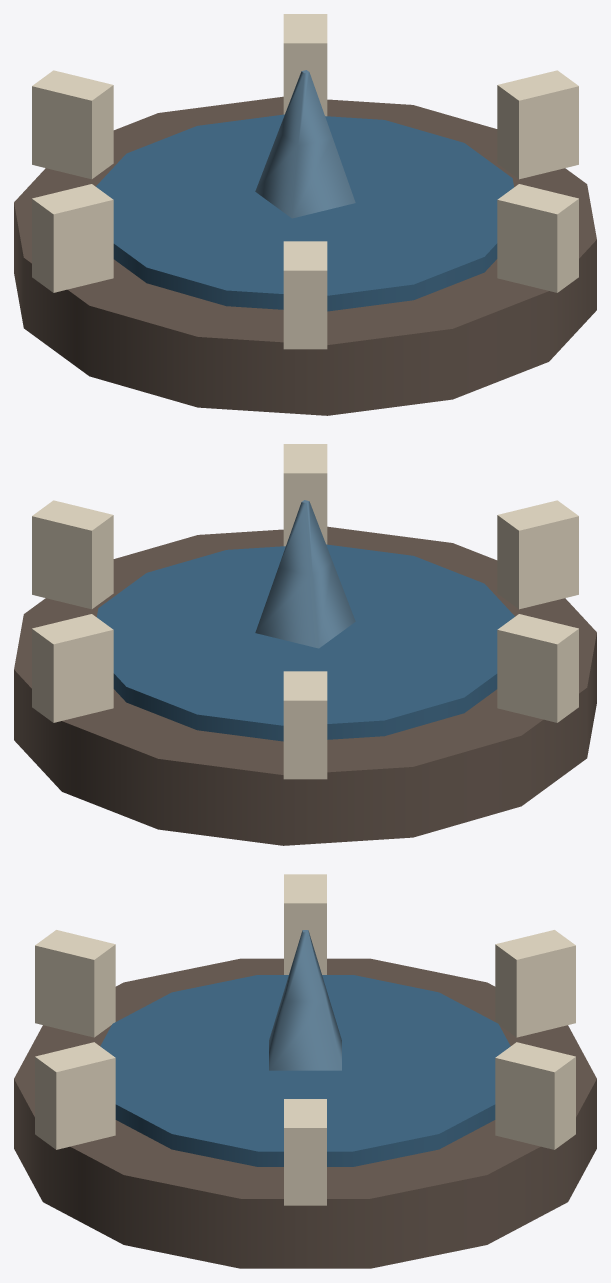
The model's file is node_ling_quan.glb.
3 renders of one model, top to bottom at view 1: azimuth 30°, elevation 25°; view 2: azimuth 150°, elevation 25°; view 3: azimuth 270°, elevation 25°, orthographic.
Visible parts, largest first — view 1: _MeshInstance3D_322, _MeshInstance3D_323, _MeshInstance3D_330, _MeshInstance3D_325, _MeshInstance3D_327, _MeshInstance3D_324, _MeshInstance3D_328, _MeshInstance3D_326, _MeshInstance3D_329; view 2: _MeshInstance3D_322, _MeshInstance3D_323, _MeshInstance3D_330, _MeshInstance3D_327, _MeshInstance3D_329, _MeshInstance3D_324, _MeshInstance3D_326, _MeshInstance3D_328, _MeshInstance3D_325; view 3: _MeshInstance3D_322, _MeshInstance3D_323, _MeshInstance3D_325, _MeshInstance3D_329, _MeshInstance3D_326, _MeshInstance3D_328, _MeshInstance3D_330, _MeshInstance3D_324, _MeshInstance3D_327.
Part boxes in pixels (left/top/right/bottom): _MeshInstance3D_322: left=14, top=96, right=596, bottom=415; _MeshInstance3D_323: left=96, top=114, right=513, bottom=311; _MeshInstance3D_330: left=255, top=70, right=355, bottom=218; _MeshInstance3D_325: left=497, top=184, right=578, bottom=292; _MeshInstance3D_327: left=32, top=184, right=113, bottom=292; _MeshInstance3D_324: left=497, top=70, right=578, bottom=179; _MeshInstance3D_328: left=32, top=70, right=113, bottom=179; _MeshInstance3D_326: left=283, top=241, right=327, bottom=349; _MeshInstance3D_329: left=283, top=14, right=327, bottom=116; _MeshInstance3D_322: left=14, top=526, right=596, bottom=845; _MeshInstance3D_323: left=97, top=544, right=514, bottom=741; _MeshInstance3D_330: left=255, top=500, right=355, bottom=648; _MeshInstance3D_327: left=497, top=614, right=578, bottom=722; _MeshInstance3D_329: left=32, top=614, right=113, bottom=722; _MeshInstance3D_324: left=32, top=500, right=113, bottom=609; _MeshInstance3D_326: left=497, top=500, right=578, bottom=609; _MeshInstance3D_328: left=283, top=671, right=327, bottom=779; _MeshInstance3D_325: left=283, top=444, right=327, bottom=546; _MeshInstance3D_322: left=14, top=958, right=596, bottom=1268; _MeshInstance3D_323: left=100, top=975, right=510, bottom=1166; _MeshInstance3D_325: left=35, top=1042, right=115, bottom=1149; _MeshInstance3D_329: left=495, top=1042, right=575, bottom=1149; _MeshInstance3D_326: left=35, top=930, right=115, bottom=1037; _MeshInstance3D_328: left=495, top=930, right=575, bottom=1037; _MeshInstance3D_330: left=269, top=930, right=341, bottom=1070; _MeshInstance3D_324: left=284, top=1099, right=326, bottom=1205; _MeshInstance3D_327: left=284, top=874, right=326, bottom=974.
Bounding box in the file's own units: 0.7 × 0.28 × 0.68.
